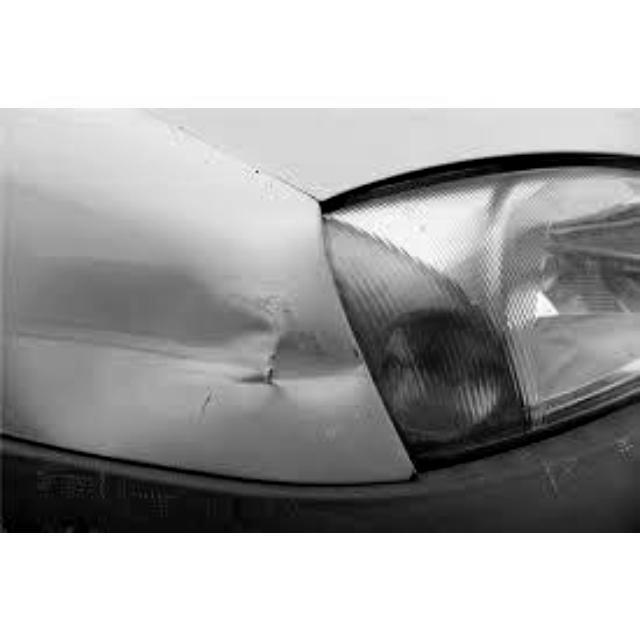fender-dent: (1, 110, 412, 498)
